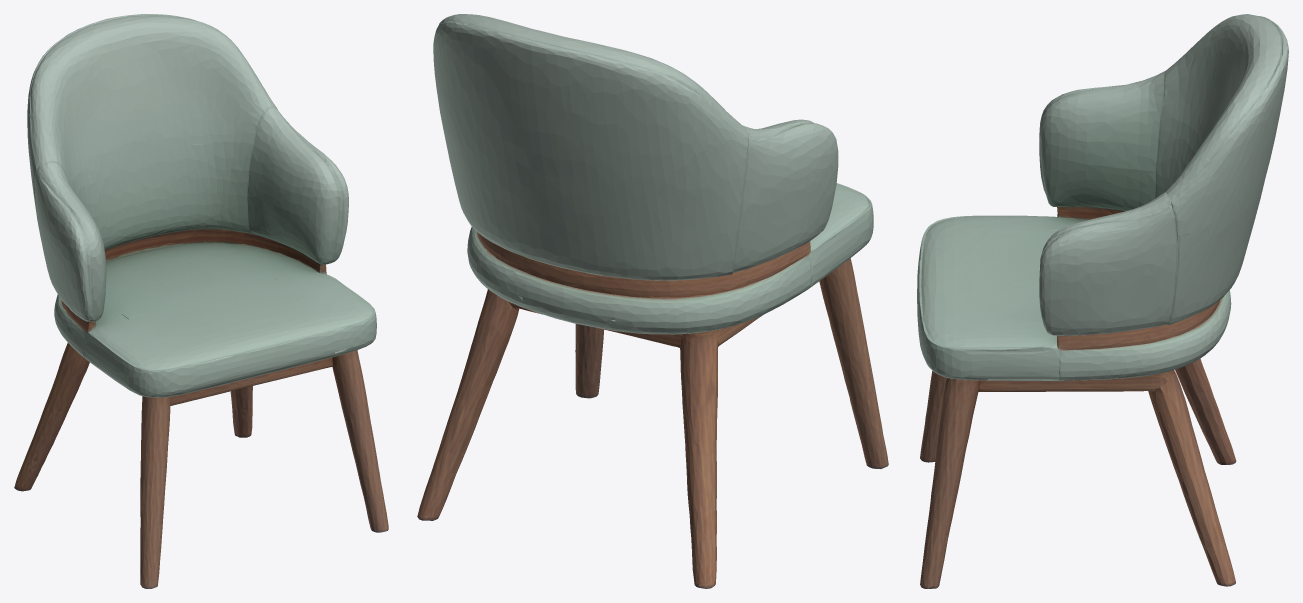
3 views of the same model, side by side, from view 1: azimuth 30°, elevation 25°; view 2: azimuth 150°, elevation 25°; view 3: azimuth 270°, elevation 25° (orthographic). The views are drawn at different scales.
Parts seen in each view (by area): view 1: world; view 2: world; view 3: world.
Boxes of the visible parts, <box> form: world: <box>14,14,388,588</box>; world: <box>417,14,888,588</box>; world: <box>917,14,1288,588</box>.
Bounding box in the file's own units: 0.676 × 1 × 0.7062.
1 material, 1 textured.
